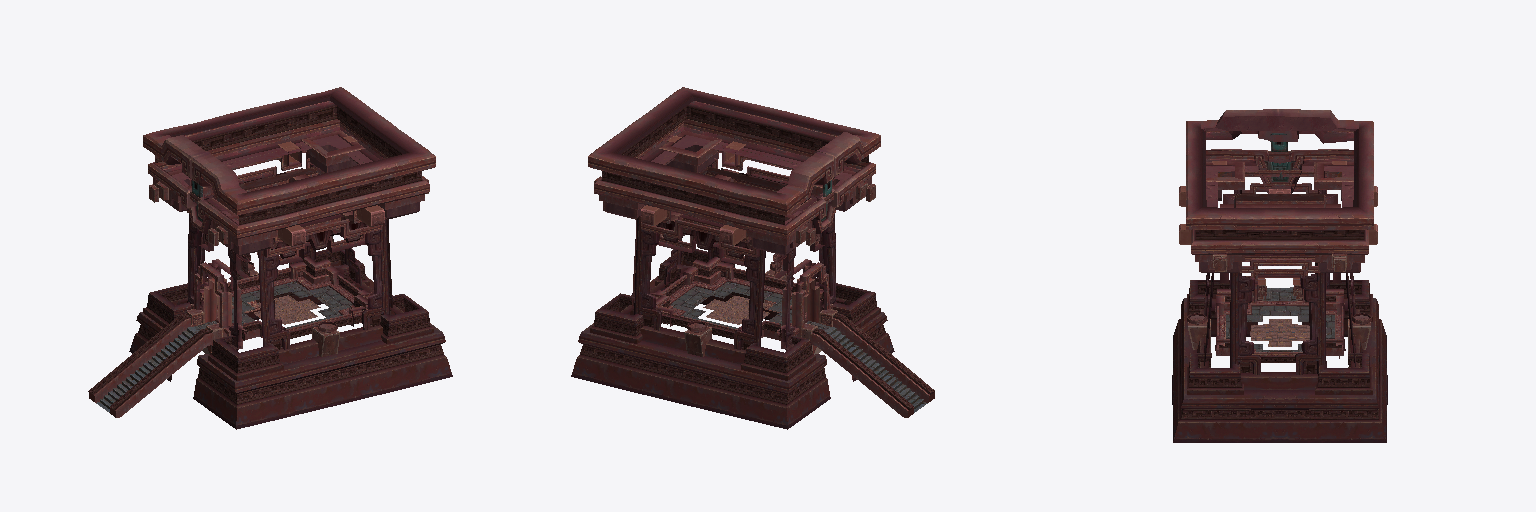
3 renders of one model, left to right at view 1: azimuth 30°, elevation 25°; view 2: azimuth 150°, elevation 25°; view 3: azimuth 270°, elevation 25°, orthographic.
Parts seen in each view (by area): view 1: 8tr_zandalari_buildingsmall03; view 2: 8tr_zandalari_buildingsmall03; view 3: 8tr_zandalari_buildingsmall03.
Boxes of the visible parts, x1,y1,x2,y2 form: 8tr_zandalari_buildingsmall03: [88, 87, 452, 429]; 8tr_zandalari_buildingsmall03: [571, 87, 934, 429]; 8tr_zandalari_buildingsmall03: [1172, 109, 1387, 442].
Bounding box in the file's own units: 51.29 × 36.99 × 30.93.
Materials: 25 (25 with a texture image).